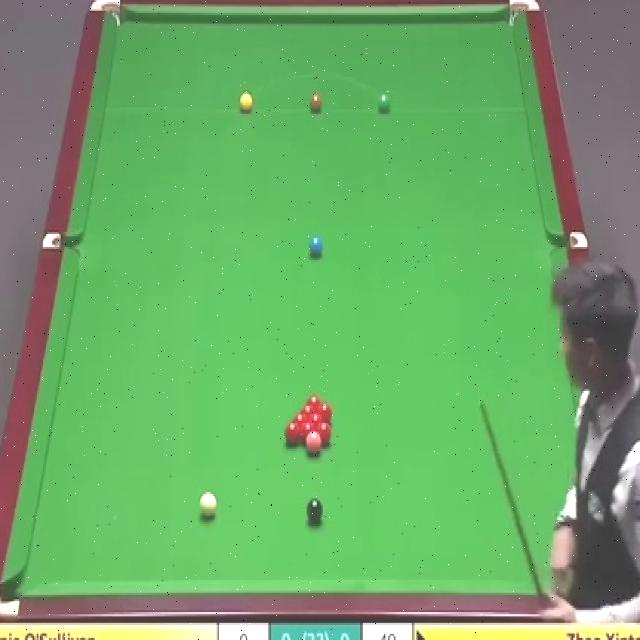black-ball: (305, 498, 325, 524)
blue-ball: (309, 235, 323, 263)
brown-ball: (308, 95, 323, 112)
green-ball: (378, 90, 393, 116)
pink-ball: (306, 431, 323, 455)
red-ball: (316, 403, 334, 425), (284, 422, 300, 446), (316, 422, 332, 446), (300, 422, 317, 444), (305, 393, 324, 409), (301, 405, 318, 420), (292, 413, 309, 427)
white-ball: (199, 489, 218, 518)
yellow-ball: (238, 92, 253, 114)
